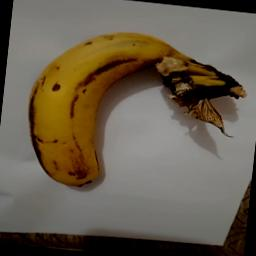Banana Unripe: (16, 21, 250, 207)
